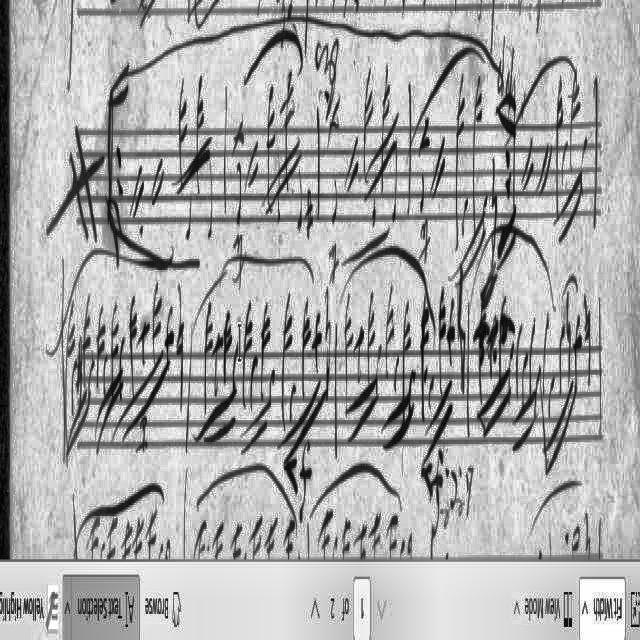Diez: (304, 182, 316, 246)
Sixteenth-note: (578, 126, 590, 210)
